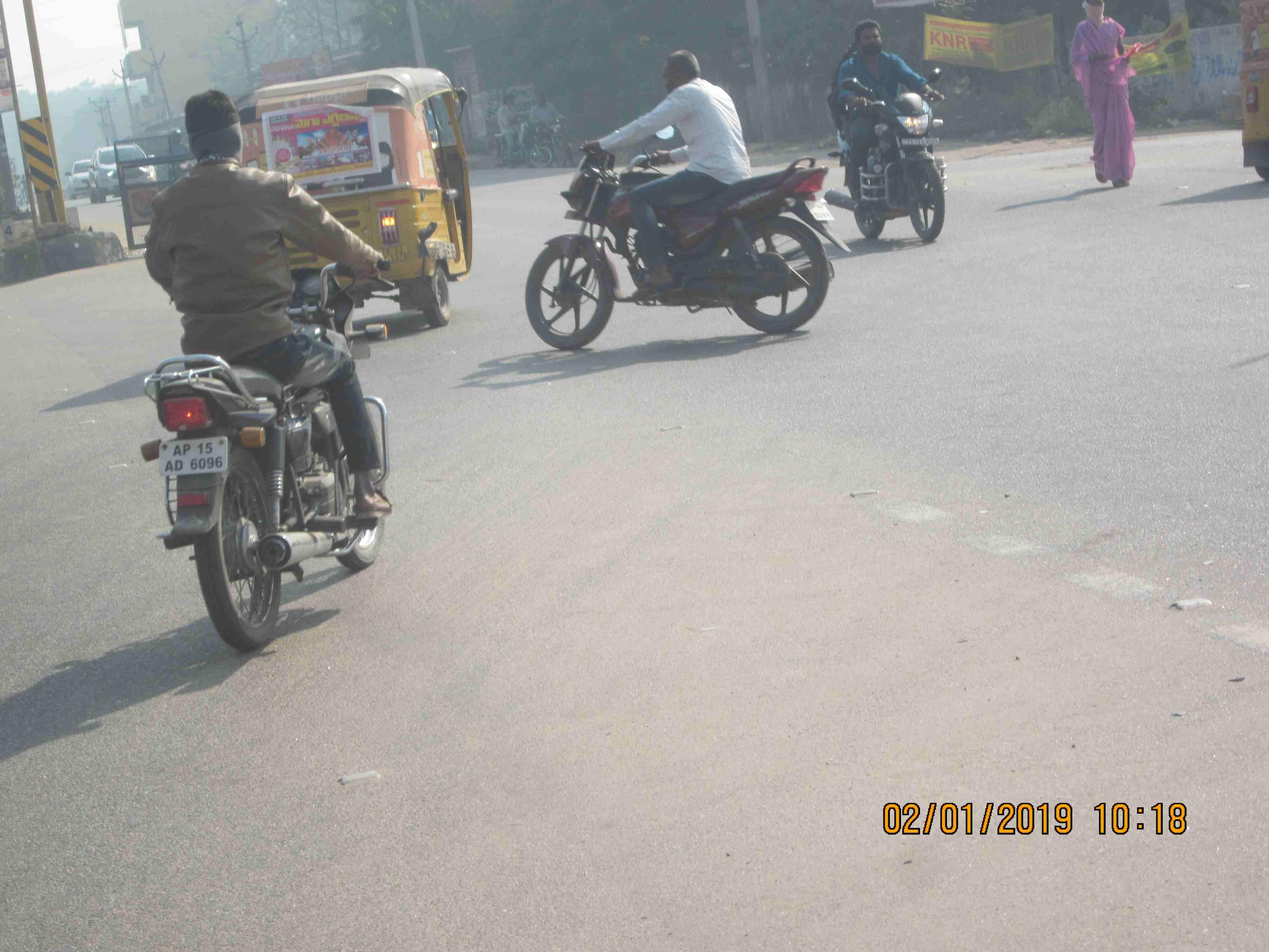plate: (154, 434, 232, 479), (899, 132, 943, 149)
